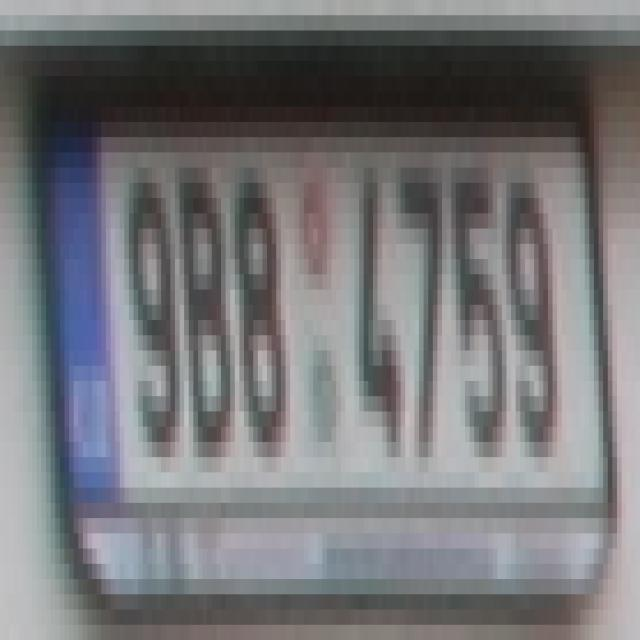4: (345, 152, 401, 442)
7: (401, 152, 451, 442)
8: (235, 137, 285, 442)
9: (124, 152, 175, 442), (507, 152, 557, 442)
B: (184, 168, 226, 457)
